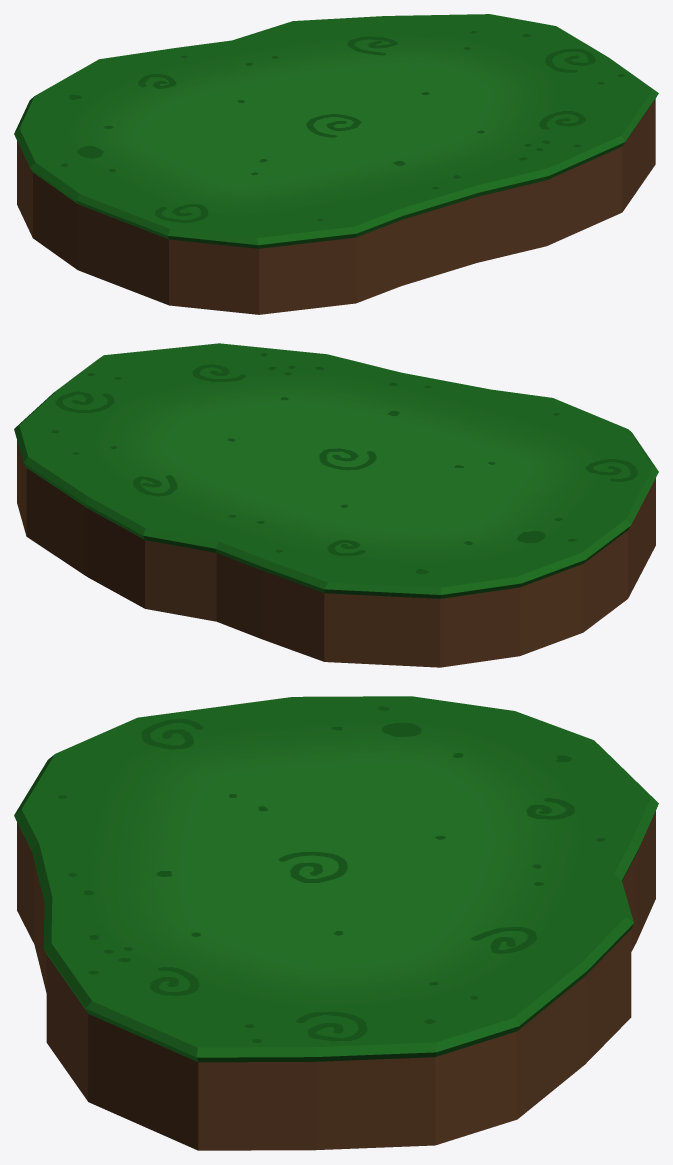
Rendered from StartPlatform.fbx.
3 renders of one model, top to bottom at view 1: azimuth 30°, elevation 25°; view 2: azimuth 150°, elevation 25°; view 3: azimuth 270°, elevation 25°, orthographic. The views are drawn at different scales.
Visible parts, largest first — view 1: GrassStart; view 2: GrassStart; view 3: GrassStart.
Boxes of the visible parts, x1,y1,x2,y2 form: GrassStart: (14,14,658,314); GrassStart: (14,343,658,667); GrassStart: (14,696,658,1150).
Size of the model in its own units: 1582 by 209 by 1204.
Materials: 1 (1 with a texture image).
